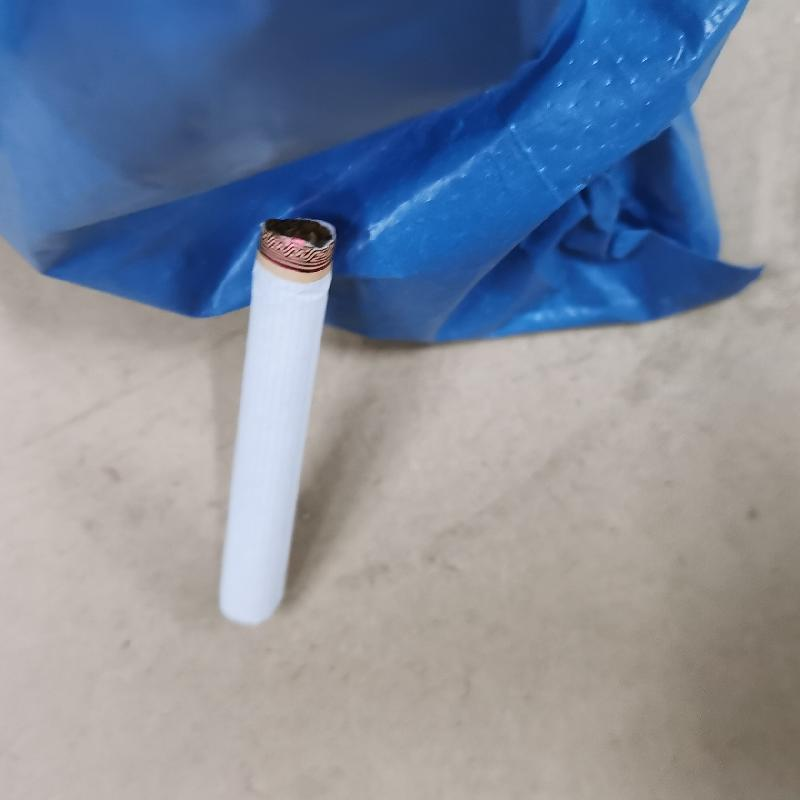cigarette: (213, 219, 334, 629)
